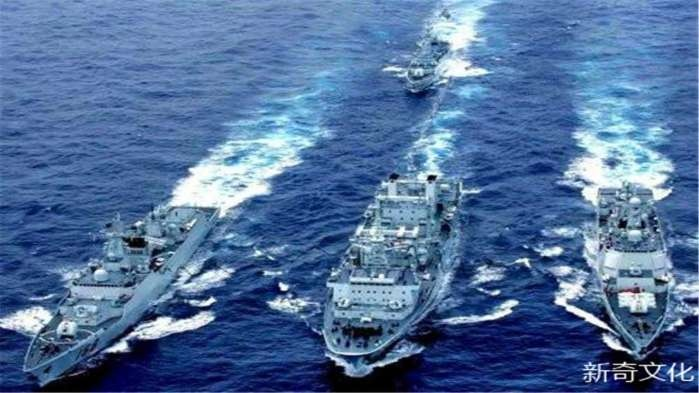warship: (20, 200, 222, 386), (311, 168, 470, 374), (586, 181, 668, 359), (396, 6, 462, 96)
